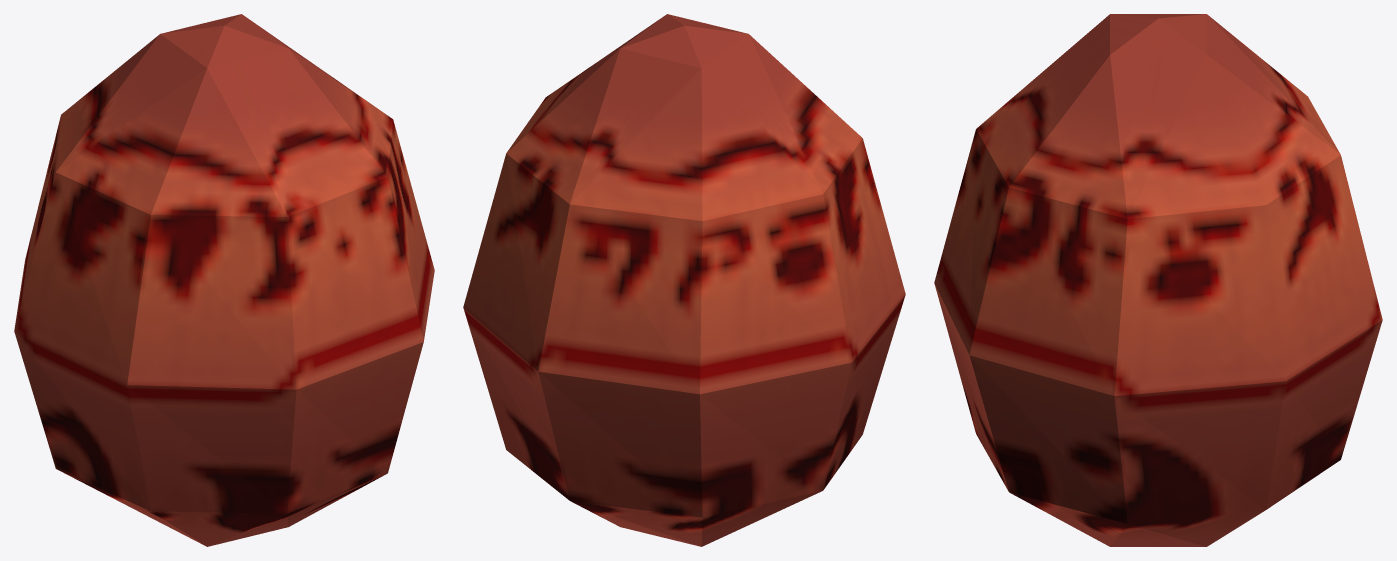
Rendered from money-lod1.glb.
3 views of the same model, side by side, from view 1: azimuth 30°, elevation 25°; view 2: azimuth 150°, elevation 25°; view 3: azimuth 270°, elevation 25° (orthographic). The views are drawn at different scales.
Parts seen in each view (by area): view 1: money-lod1; view 2: money-lod1; view 3: money-lod1.
Boxes of the visible parts, bbox=[...] form: money-lod1: bbox=[14, 14, 434, 546]; money-lod1: bbox=[463, 14, 905, 546]; money-lod1: bbox=[934, 14, 1382, 546].
Bounding box in the file's own units: 0.8361 × 1.07 × 0.8361.
Materials: 1 (1 with a texture image).
